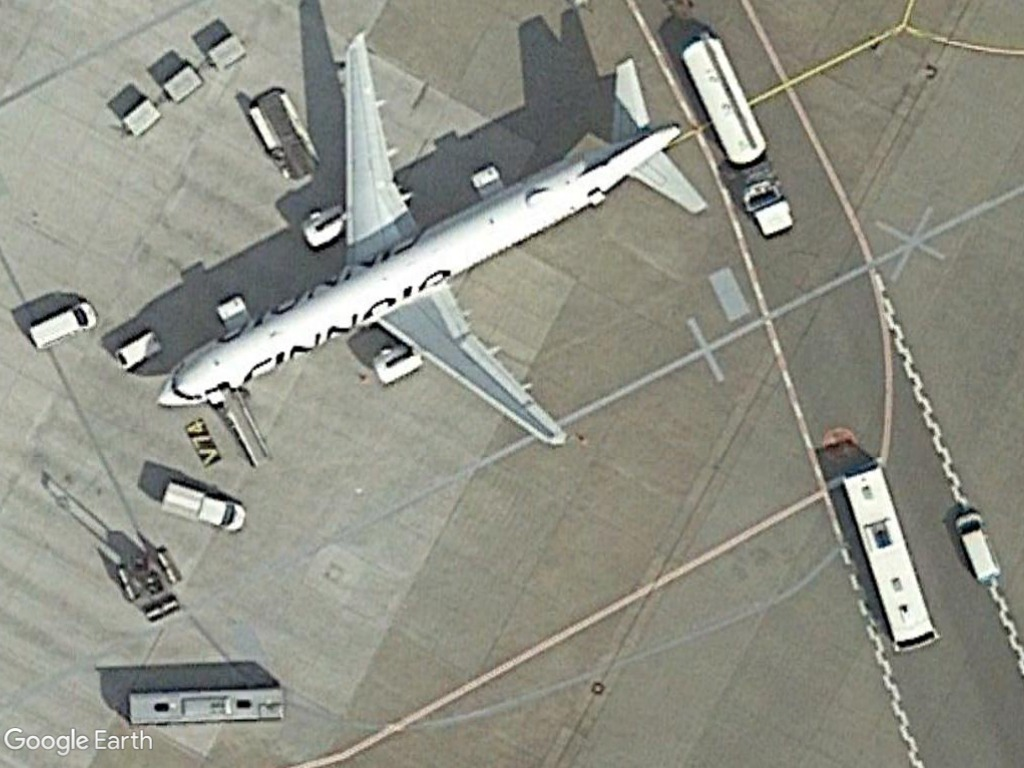airliner: (151, 28, 711, 451)
bus: (835, 455, 943, 656), (122, 681, 294, 729)
other: (157, 476, 254, 542)
pushbacktruck: (239, 88, 324, 187)
van: (950, 507, 1004, 588), (25, 295, 98, 352)
